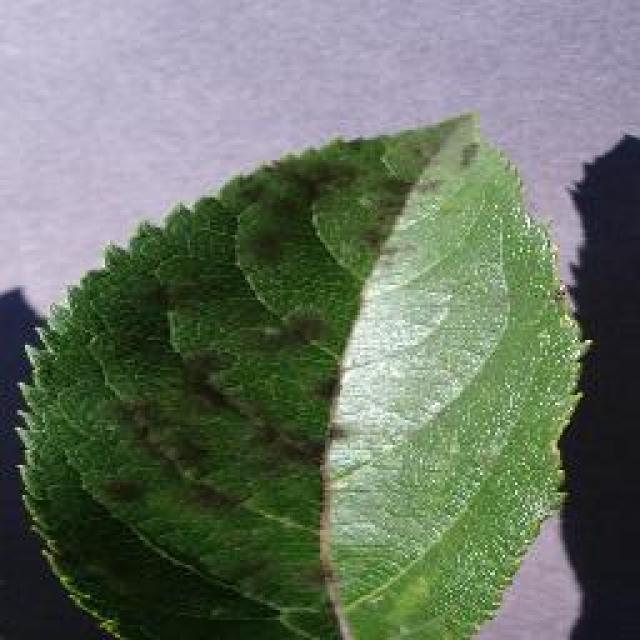apple scab disease: (12, 108, 592, 638)
